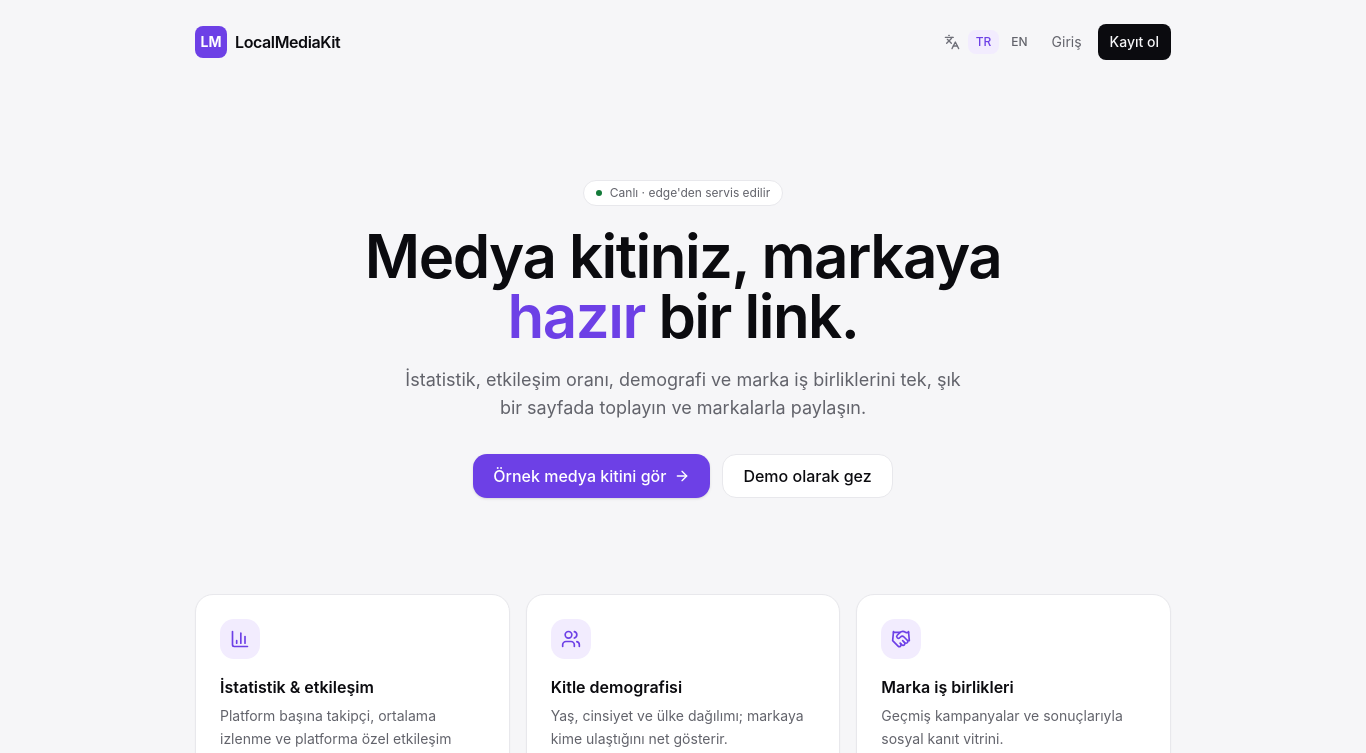
signed-out language switch › switches the landing to English and remembers it
The width and height of the screenshot is (1366, 753).
Click the button "en" at (1019, 42), box [1003, 30, 1036, 54]
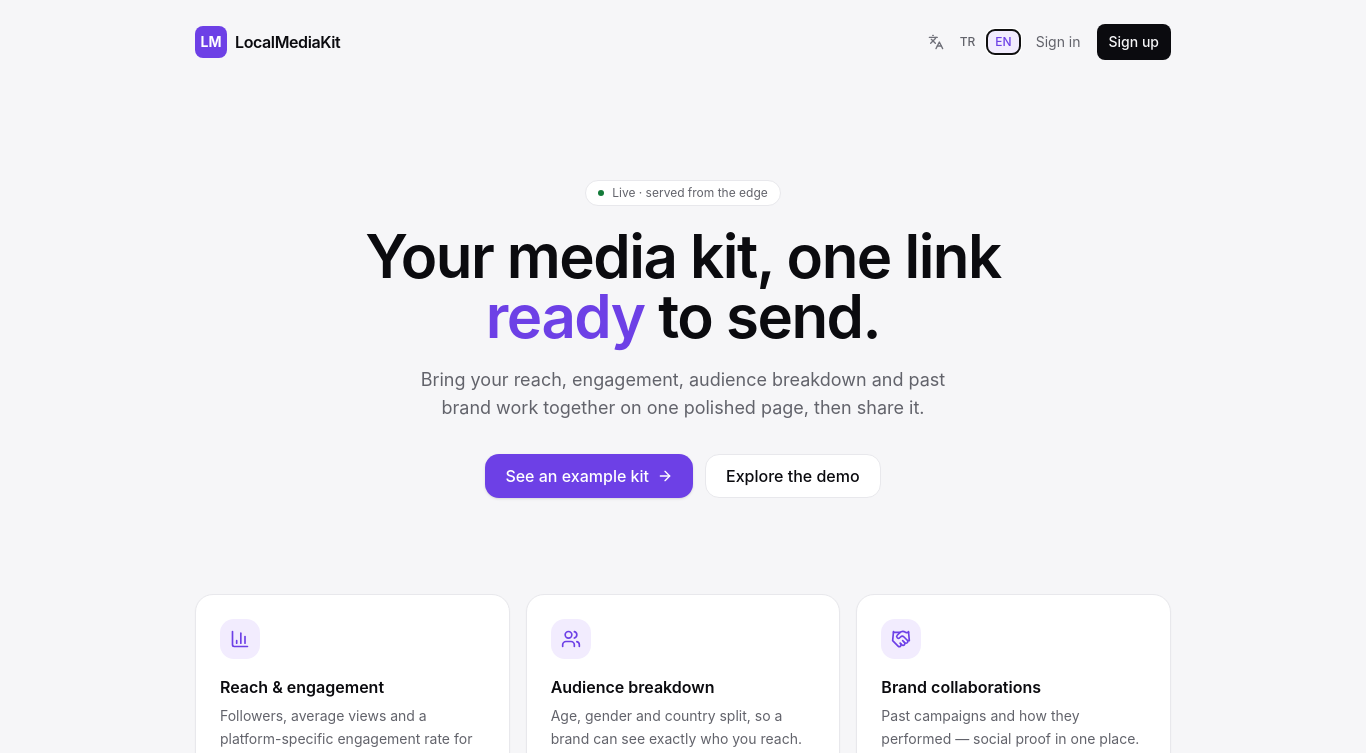
Expected: the link "See an example kit" is shown, [485, 454, 693, 498]
Expected: the link "Örnek medya kitini gör" is gone
